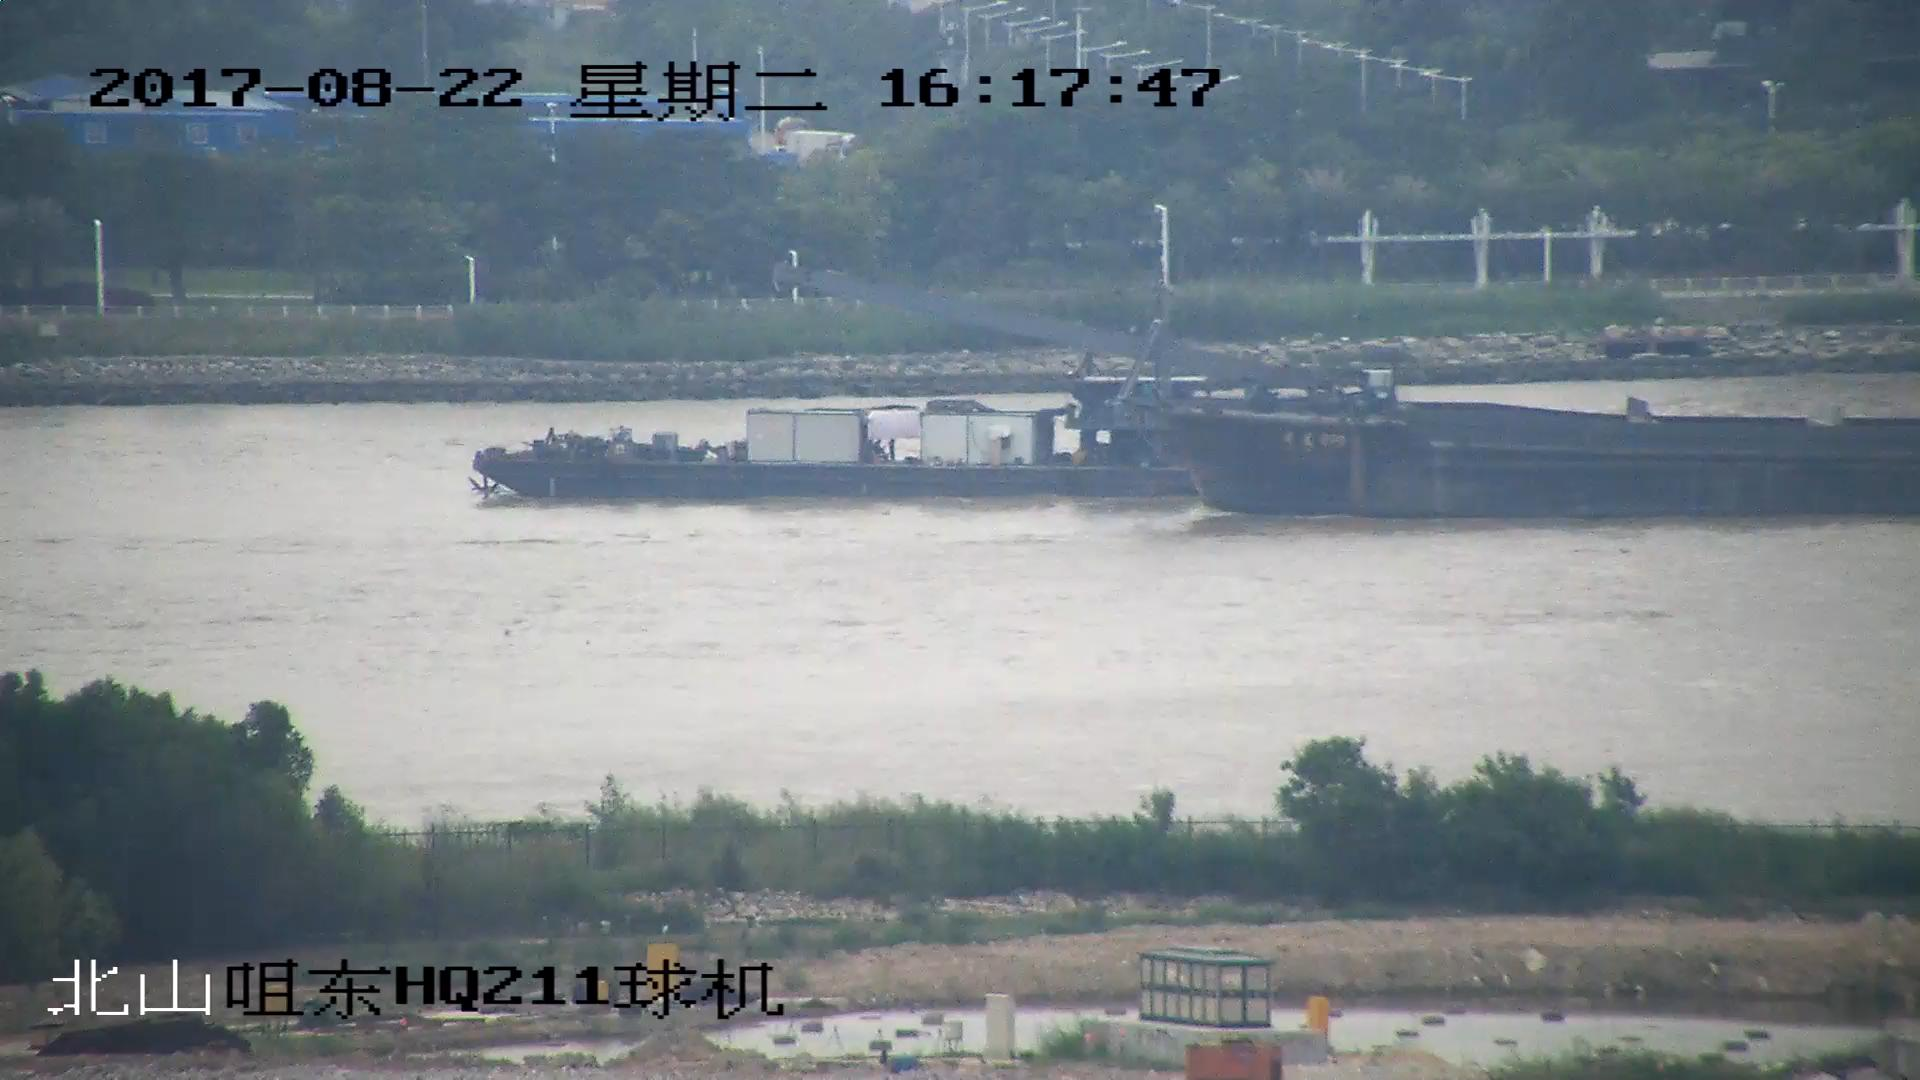bulk cargo carrier: (782, 265, 1920, 513), (463, 378, 1216, 507)
